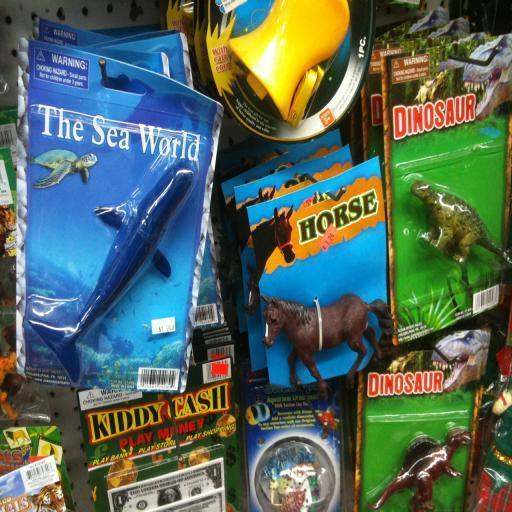horse: (260, 291, 401, 400), (250, 204, 294, 276), (236, 184, 277, 257), (245, 264, 260, 316)
